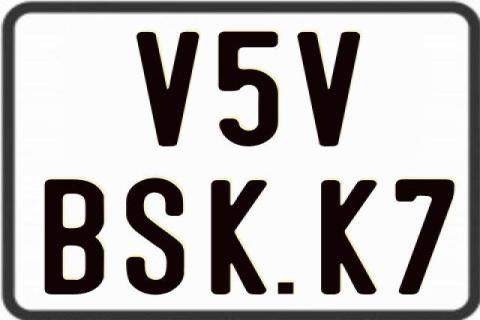0: (393, 177, 454, 293), (218, 31, 278, 148)
B: (43, 179, 102, 296)
K: (321, 180, 381, 298), (209, 178, 265, 296)
S: (123, 176, 182, 294)
V: (137, 30, 201, 148), (296, 31, 360, 148)
